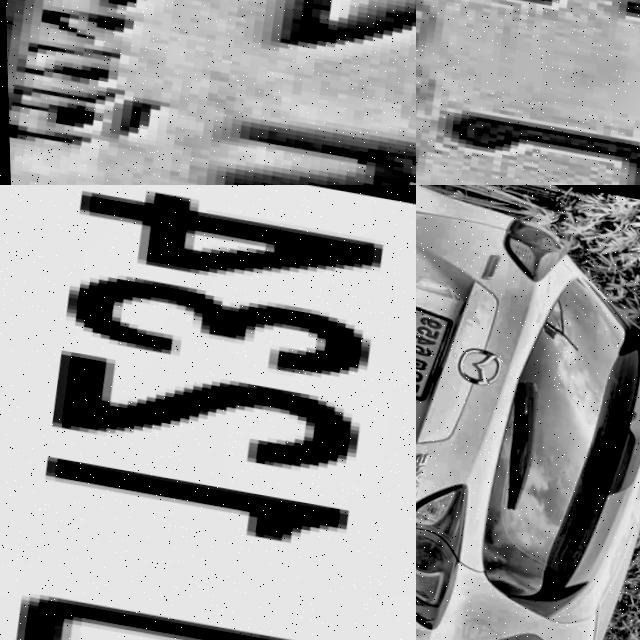license-plate: (0, 185, 416, 640), (0, 0, 416, 185), (416, 0, 640, 185), (416, 289, 462, 409)
